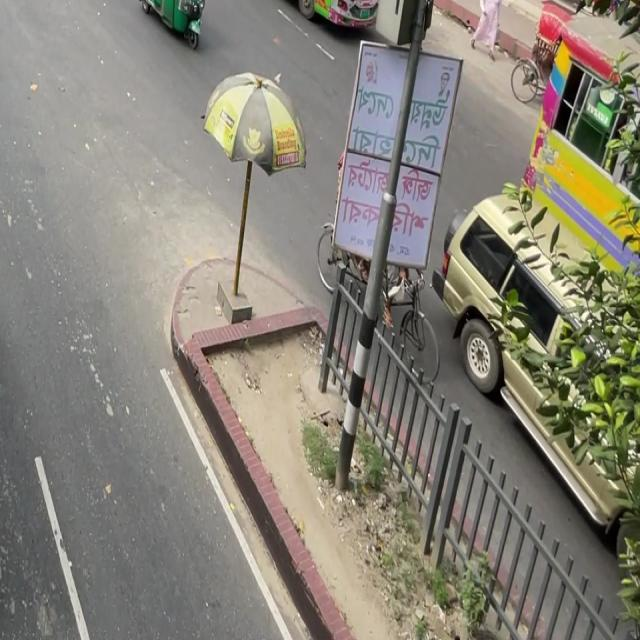bus: (169, 0, 382, 27)
car: (0, 179, 26, 626)
rickshaw: (132, 0, 221, 58)
